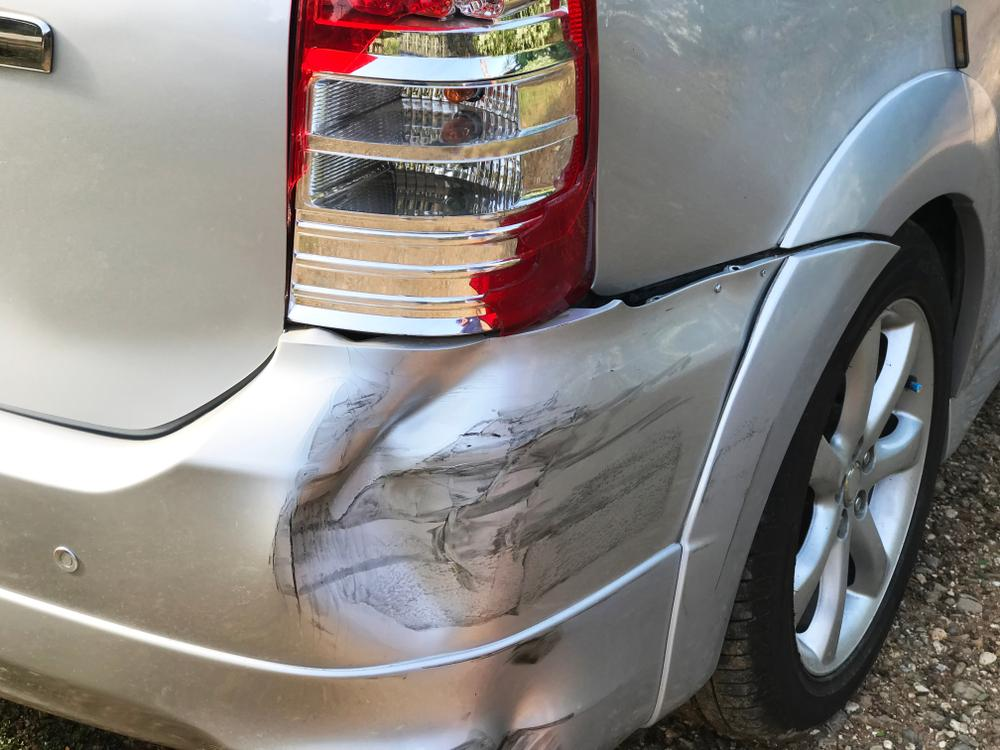dent: (289, 348, 511, 645), (468, 653, 557, 750)
lamp broken: (286, 0, 601, 337)
scratch: (466, 356, 691, 629), (265, 375, 391, 631), (422, 624, 570, 673)
